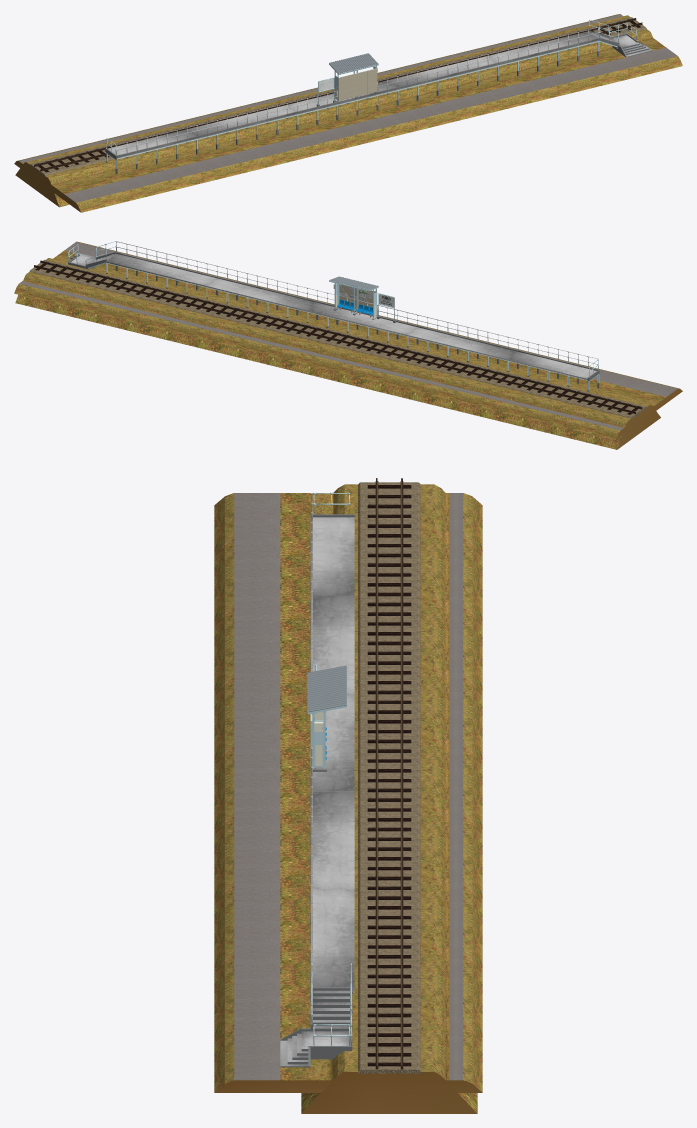
Rendered from 田舎プラットホーム10.fbx.
The picture shows the model from 3 angles, top to bottom: view 1: azimuth 30°, elevation 25°; view 2: azimuth 150°, elevation 25°; view 3: azimuth 270°, elevation 25°; orthographic projection. The views are drawn at different scales.
Parts seen in each view (by area): view 1: 土手道路, 土手, ホーム, 道床, レールtex付, ホーム屋根, 柵, ホーム土台, ホーム階段, ホーム階段2; view 2: 土手道路, 土手, ホーム, 道床, レールtex付, 柵, ホーム屋根, ホーム土台, ホーム階段; view 3: 土手道路, 道床, 土手, ホーム, レールtex付, ホーム階段, ホーム屋根, ホーム階段2.
Part boxes in pixels (x1,y1,x2,y2): 土手道路: [14, 14, 682, 212]; 土手: [15, 15, 652, 207]; ホーム: [106, 31, 599, 168]; 道床: [29, 17, 646, 176]; レールtex付: [34, 18, 642, 172]; ホーム屋根: [329, 53, 378, 101]; 柵: [116, 27, 598, 155]; ホーム土台: [106, 44, 599, 174]; ホーム階段: [588, 31, 635, 51]; ホーム階段2: [618, 41, 652, 57]; 土手道路: [14, 241, 682, 440]; 土手: [15, 258, 660, 449]; ホーム: [106, 252, 599, 390]; 道床: [29, 259, 646, 419]; レールtex付: [34, 260, 642, 414]; 柵: [116, 241, 598, 367]; ホーム屋根: [329, 276, 378, 319]; ホーム土台: [106, 265, 599, 391]; ホーム階段: [68, 252, 116, 269]; 土手道路: [214, 493, 482, 1092]; 道床: [357, 482, 421, 1073]; 土手: [301, 484, 477, 1113]; ホーム: [310, 515, 354, 987]; レールtex付: [367, 478, 411, 1069]; ホーム階段: [310, 985, 354, 1059]; ホーム屋根: [307, 665, 346, 771]; ホーム階段2: [280, 1028, 310, 1067].
Size of the model in its own units: 60 by 6.46 by 11.6.
